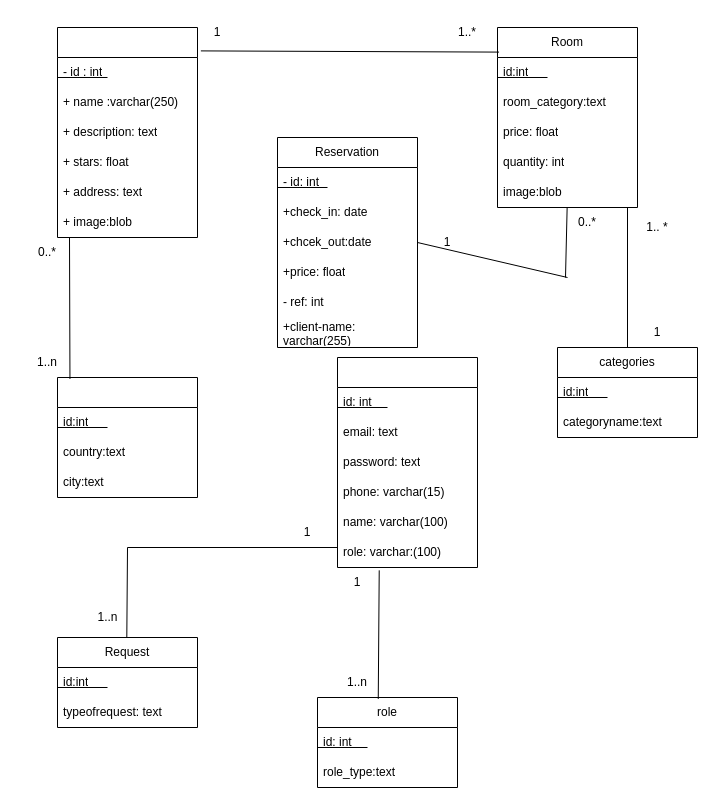
This 715x805 diagram has some shape labels left out. Here are the shapes that lost their labels. From the top down, the box of each, then its label:
(56, 26, 198, 238): Hotel
(56, 376, 198, 498): location
(336, 356, 478, 568): user
